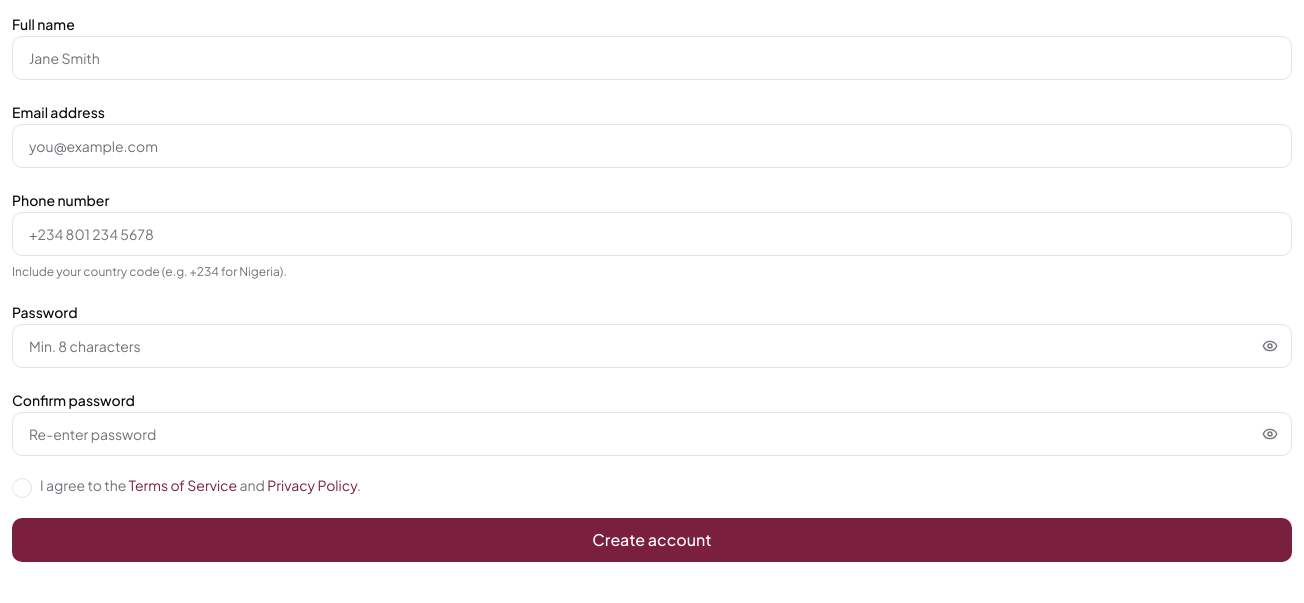
Test case: RegisterForm (F8.3) › shows terms error when terms not accepted
The width and height of the screenshot is (1304, 603).
In the field labelled "Full name": (652, 58) [12,36,1292,80], type "Collins Okeke"
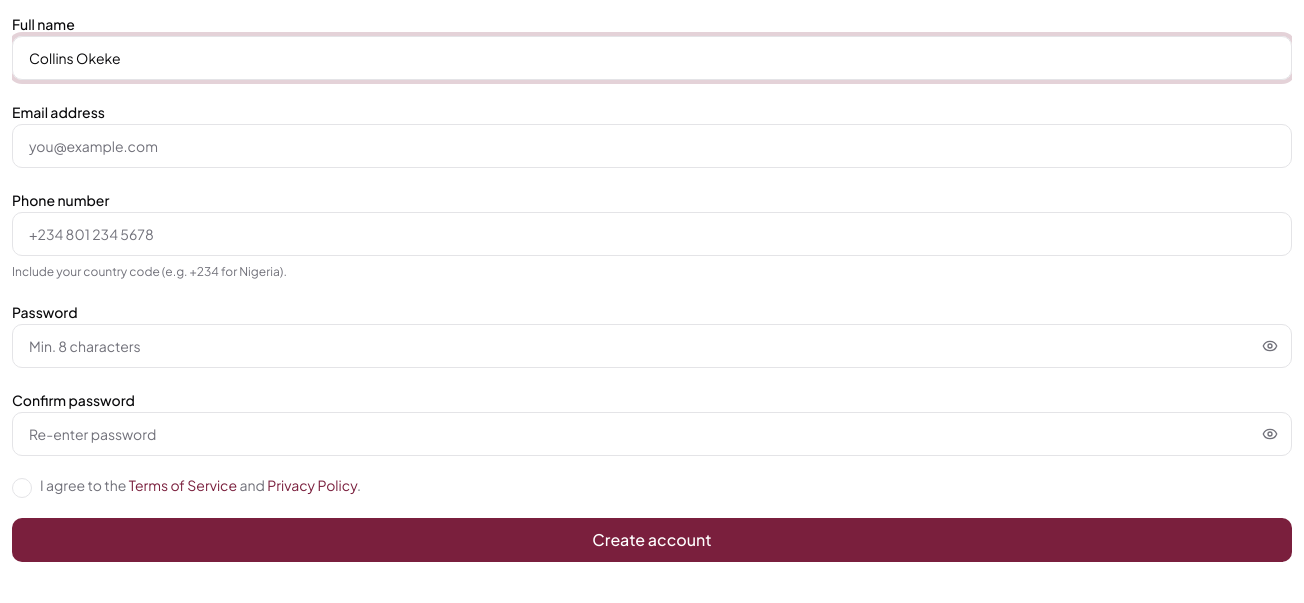
In the field labelled "Email address": (652, 146) [12,124,1292,168], type "collins@example.com"
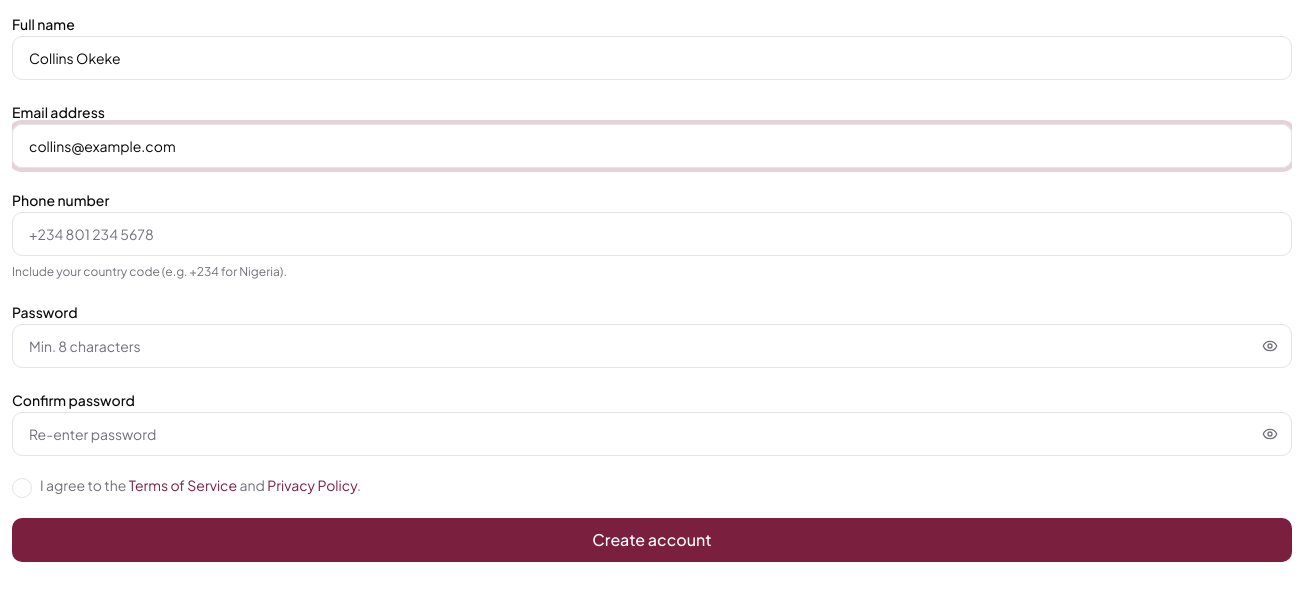
In the field labelled "Phone number": (652, 234) [12,212,1292,256], type "+2348012345678"
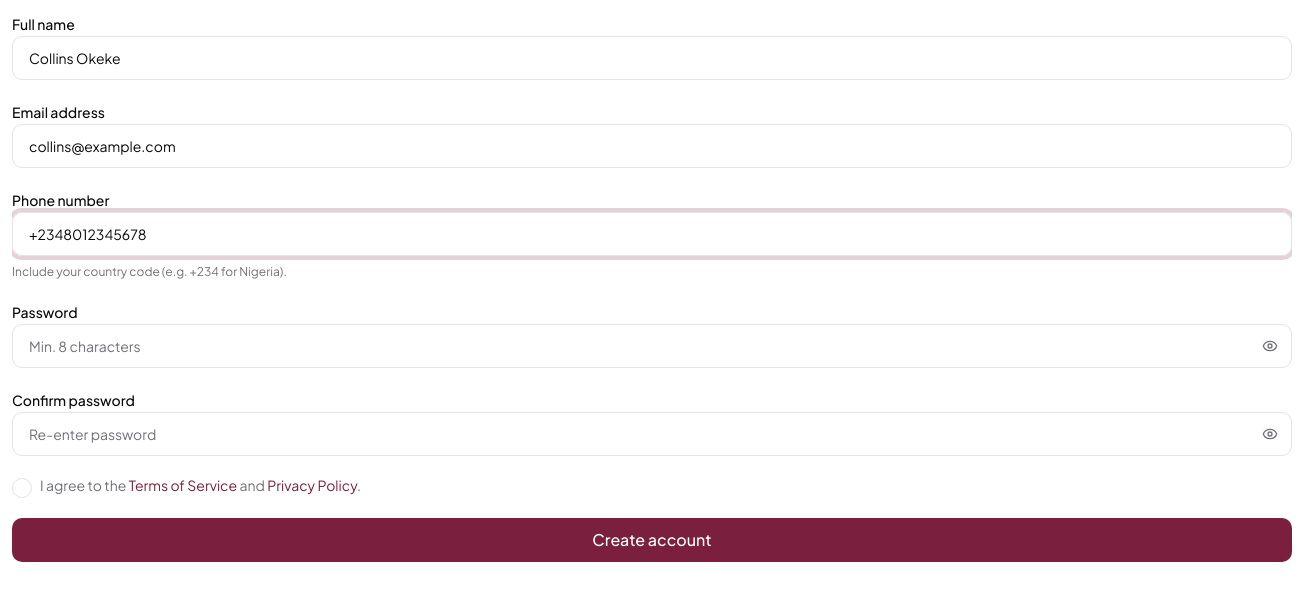
In the password field with placeholder "Min. 8 characters": (652, 346) [12,324,1292,368], type "Secret123!"
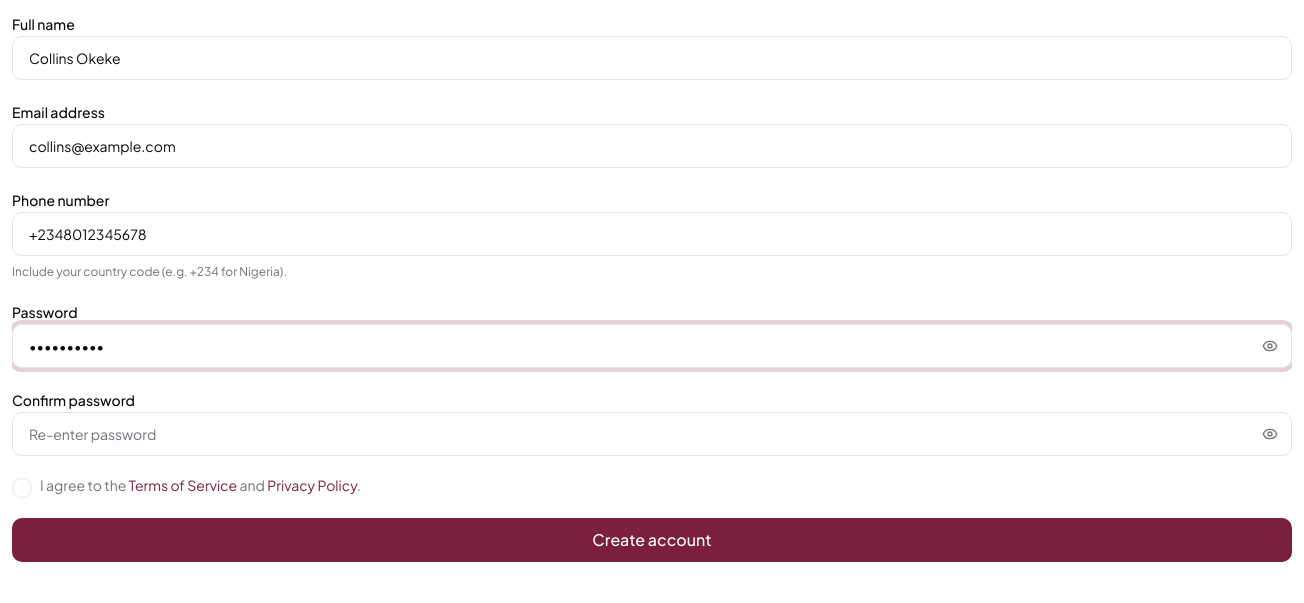
In the password field with placeholder "Re-enter password": (652, 434) [12,412,1292,456], type "Secret123!"
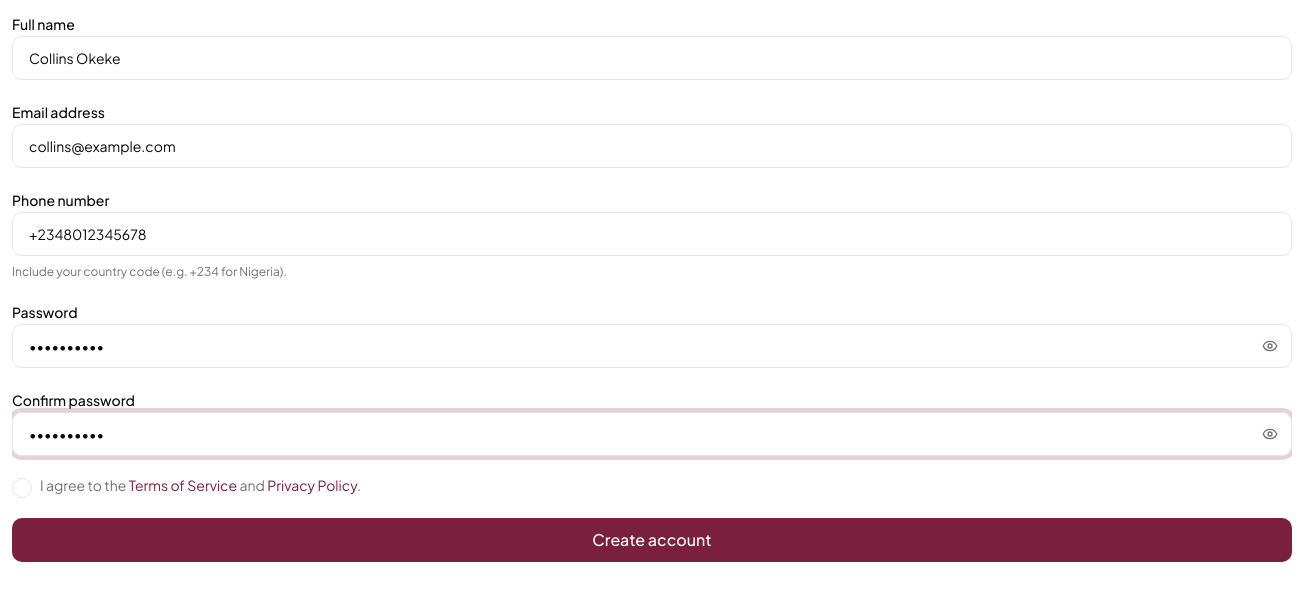
Do NOT tick checkbox
Click the button "Create account": (652, 540) [12,518,1292,562]
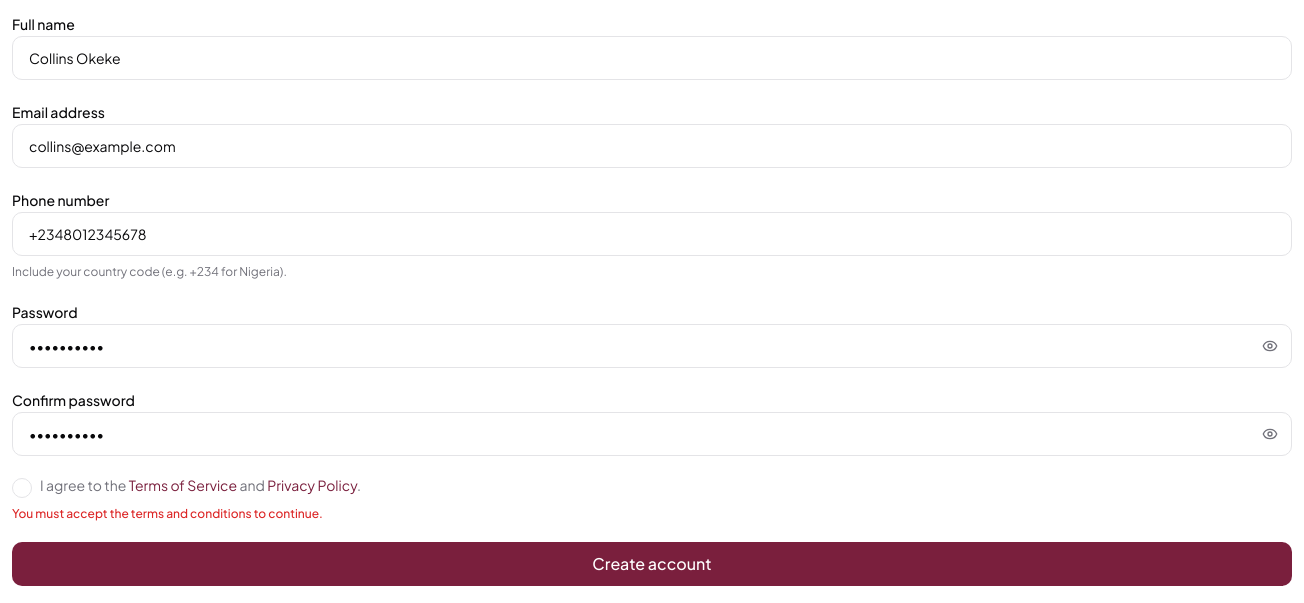
Result: the text "You must accept the terms and conditions to continue." is shown at [12,506,323,521]
